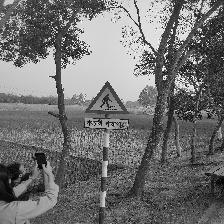Pedestrian-crossing: (84, 82, 130, 129)
